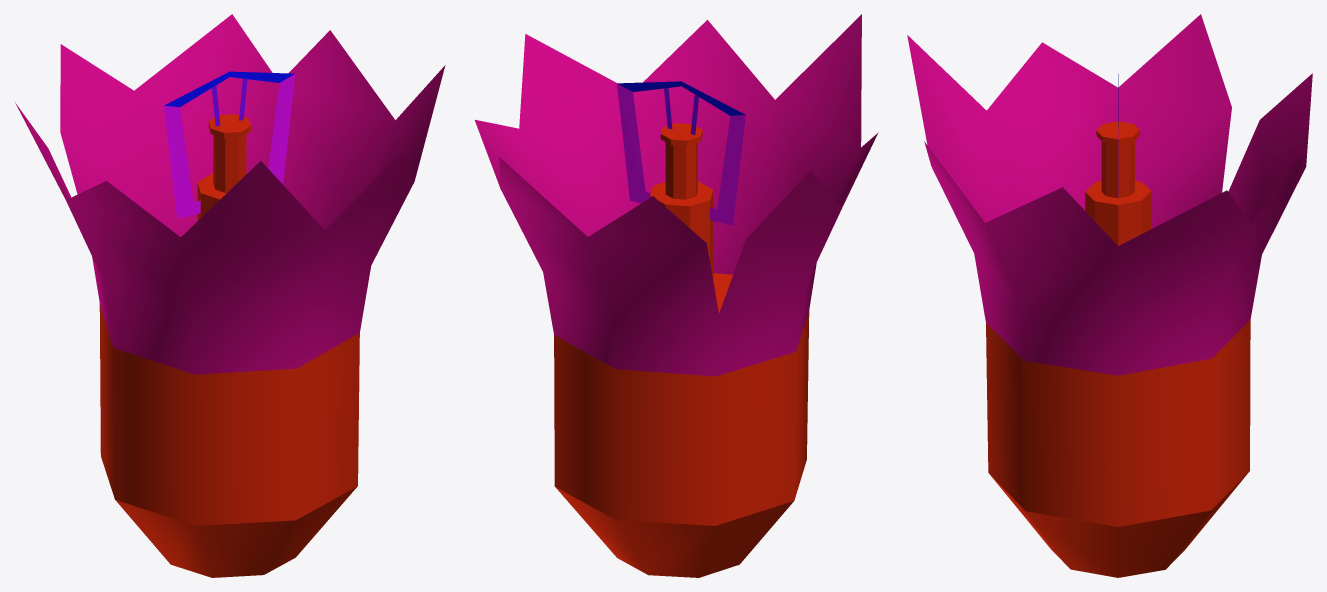
The model's file is SM_Lightbulb_Destroyed_01.fbx.
3 views of the same model, side by side, from view 1: azimuth 30°, elevation 25°; view 2: azimuth 150°, elevation 25°; view 3: azimuth 270°, elevation 25° (orthographic).
Visible parts, largest first — view 1: Lightbulb_Destroyed, wire; view 2: Lightbulb_Destroyed, wire; view 3: Lightbulb_Destroyed.
Boxes of the visible parts, box(x1,y1,x2,y2) form: Lightbulb_Destroyed: box(15, 14, 445, 577); wire: box(164, 71, 295, 218); Lightbulb_Destroyed: box(474, 14, 878, 577); wire: box(617, 81, 745, 225); Lightbulb_Destroyed: box(907, 14, 1312, 577).
Bounding box in the file's own units: 11.77 × 15.2 × 11.66.
